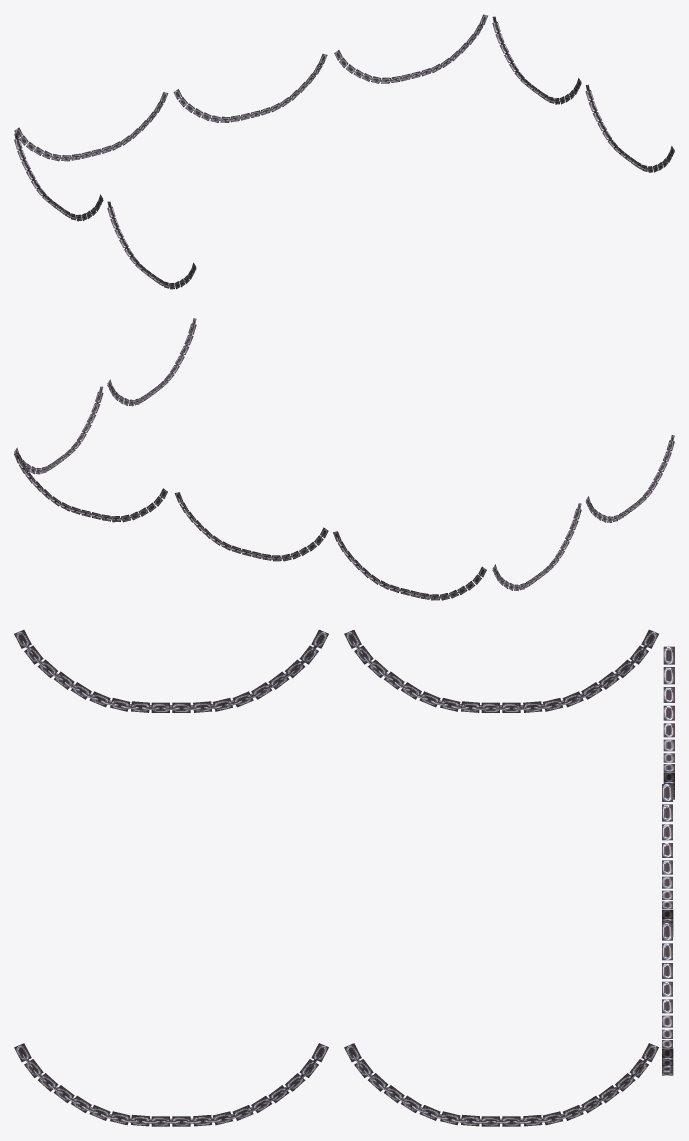
File: scaffold_up_found_dock_4x4_chains.glb
3 renders of one model, top to bottom at view 1: azimuth 30°, elevation 25°; view 2: azimuth 150°, elevation 25°; view 3: azimuth 270°, elevation 25°, orthographic. The views are drawn at different scales.
Visible parts, largest first — view 1: scaffold_up_found_dock_4x4_chains_part0; view 2: scaffold_up_found_dock_4x4_chains_part0; view 3: scaffold_up_found_dock_4x4_chains_part0.
Boxes of the visible parts, left/top/right/bottom form: scaffold_up_found_dock_4x4_chains_part0: left=14, top=14, right=674, bottom=289; scaffold_up_found_dock_4x4_chains_part0: left=14, top=318, right=674, bottom=600; scaffold_up_found_dock_4x4_chains_part0: left=14, top=629, right=674, bottom=1126.
Size of the model in its own units: 4.09 by 0.3803 by 2.73.
Materials: 1 (1 with a texture image).
